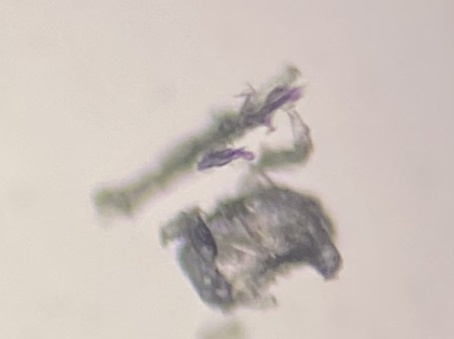microplastic: (89, 65, 343, 316)
